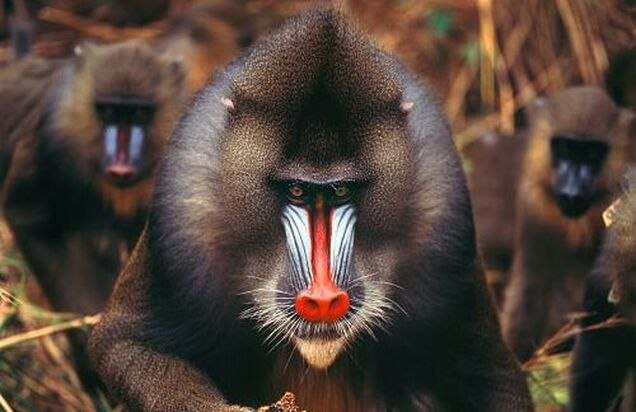Mandrill: (173, 54, 476, 408), (25, 41, 174, 232), (520, 95, 627, 302)
